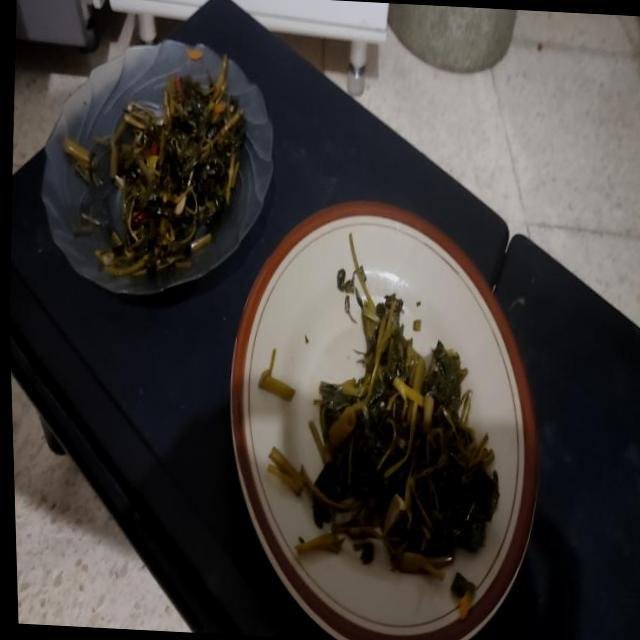tumis_kangkung: (310, 266, 500, 580), (96, 64, 246, 275)
